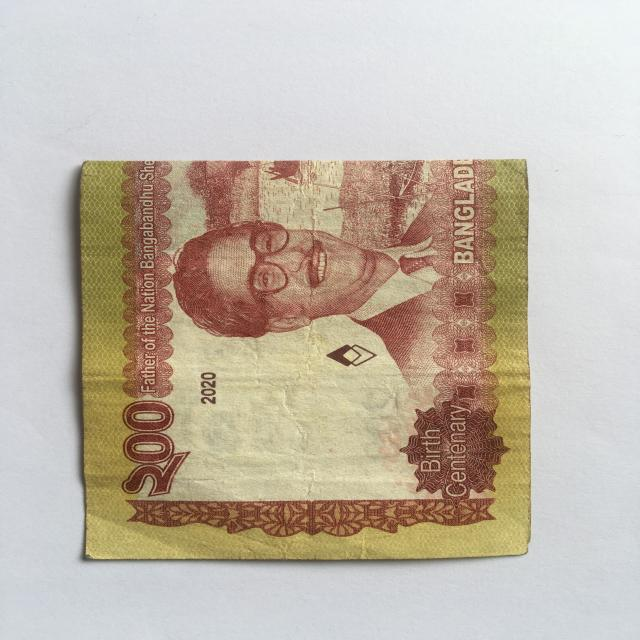Taka: (75, 152, 530, 563)
